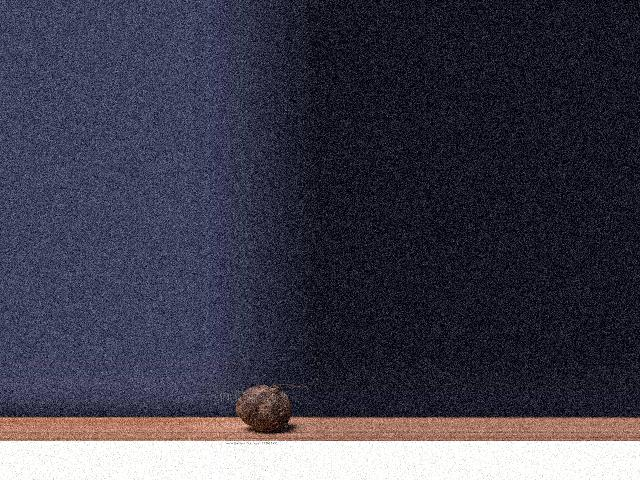beet: (236, 384, 308, 432)
